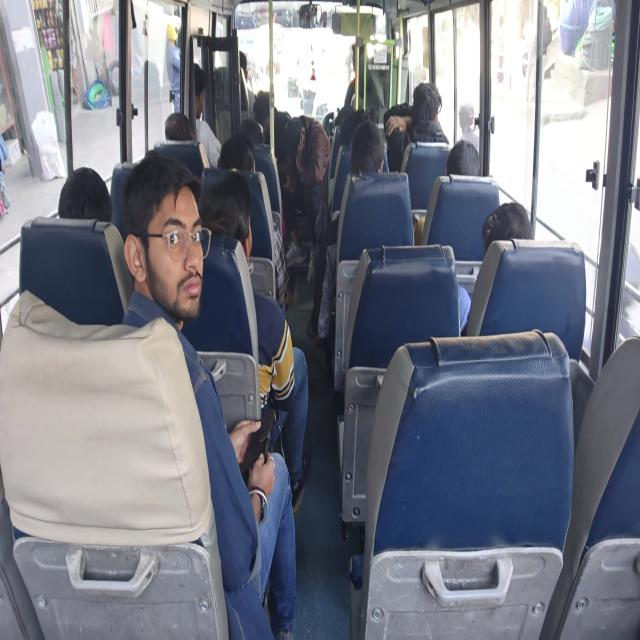person: (155, 178, 201, 314), (487, 190, 532, 280), (55, 177, 113, 233), (352, 132, 397, 195), (215, 188, 253, 254), (412, 92, 448, 154), (442, 136, 478, 188), (236, 117, 276, 151), (184, 66, 212, 113), (165, 110, 193, 156), (220, 145, 260, 175), (284, 119, 306, 152), (347, 111, 366, 147), (254, 91, 272, 127), (234, 52, 251, 88)
